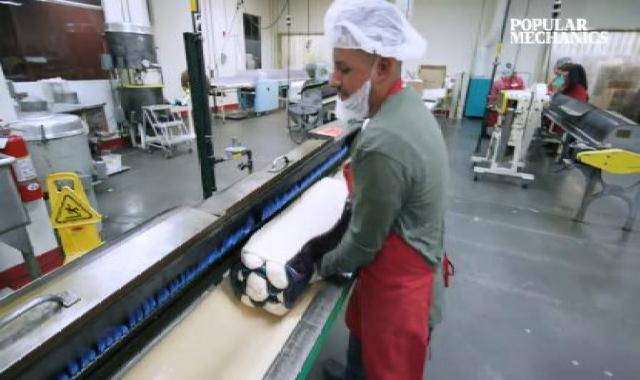hairnet: (318, 1, 428, 71)
